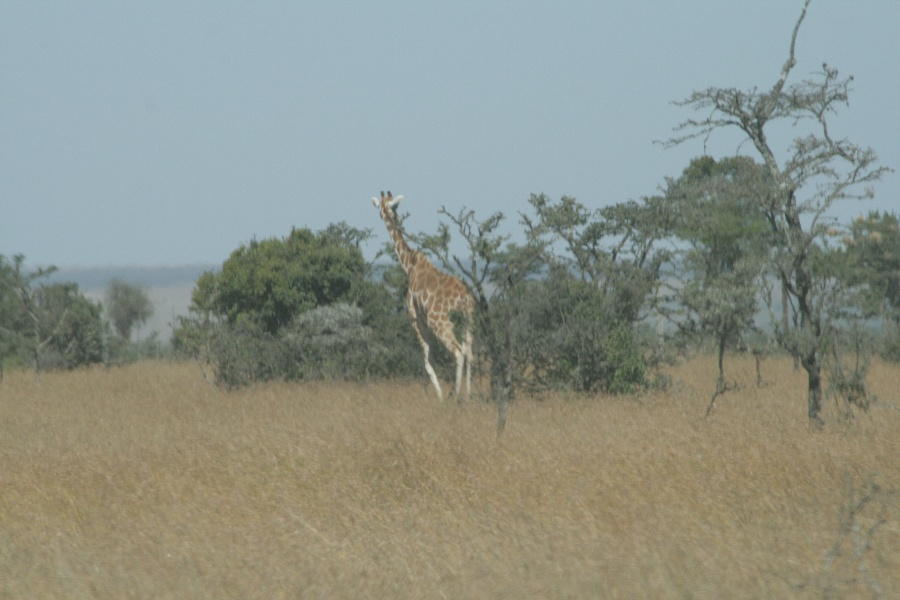giraffe: (361, 183, 483, 406)
